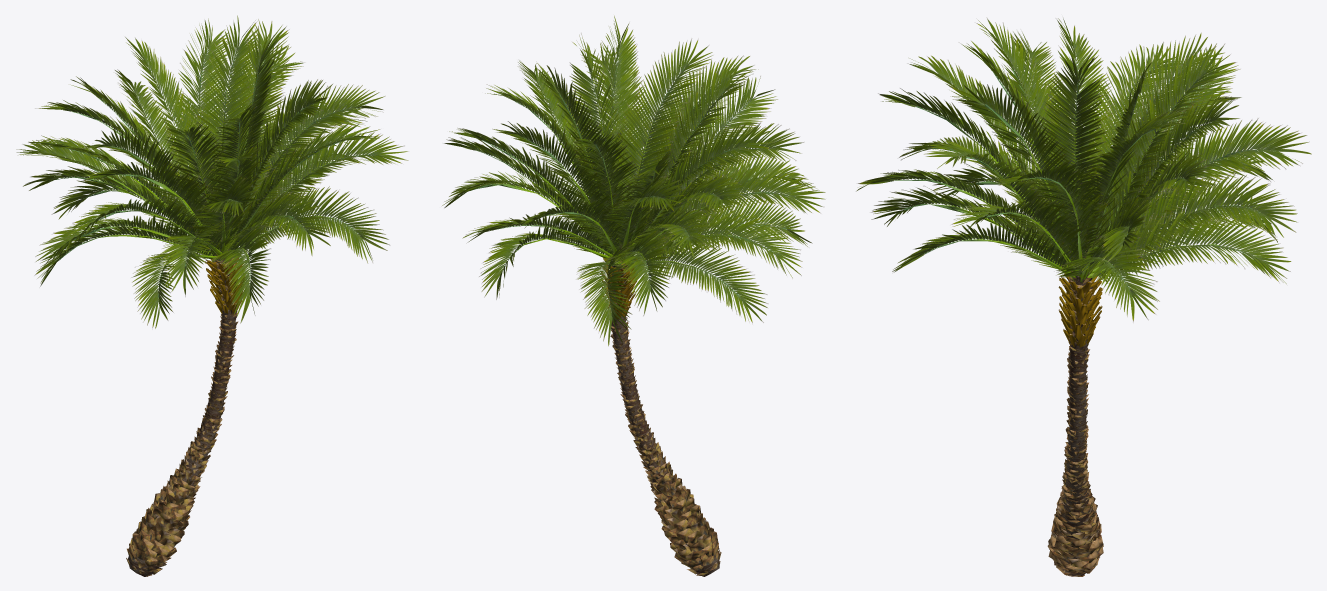
The model's file is phoenix_0.glb.
3 views of the same model, side by side, from view 1: azimuth 30°, elevation 25°; view 2: azimuth 150°, elevation 25°; view 3: azimuth 270°, elevation 25° (orthographic). The views are drawn at different scales.
Visible parts, largest first — view 1: Phoenix_Sylvestris_Small; view 2: Phoenix_Sylvestris_Small; view 3: Phoenix_Sylvestris_Small.
Part boxes in pixels (bbox=[...]): Phoenix_Sylvestris_Small: bbox=[16, 15, 408, 576]; Phoenix_Sylvestris_Small: bbox=[442, 15, 825, 576]; Phoenix_Sylvestris_Small: bbox=[856, 17, 1311, 576].
Size of the model in its own units: 5.91 by 8.5 by 5.93.
6 materials, 6 textured.
